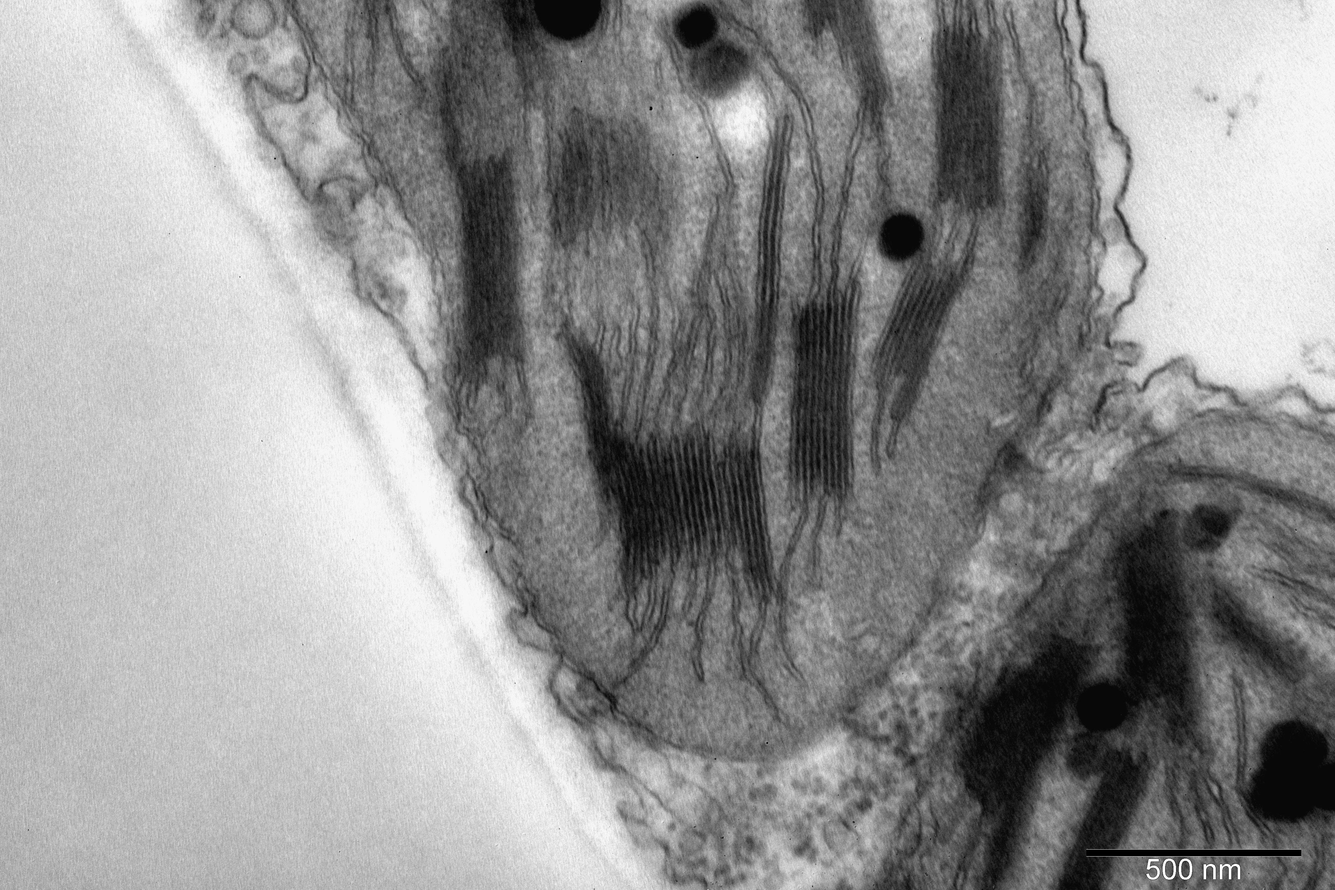granum: (561, 330, 787, 610), (950, 633, 1099, 840), (1106, 507, 1214, 750), (545, 97, 684, 250), (445, 152, 530, 363), (783, 291, 861, 496), (867, 263, 968, 420), (1044, 750, 1153, 890), (927, 23, 1007, 211), (744, 109, 797, 389), (1200, 578, 1309, 682), (797, 0, 895, 107), (1015, 140, 1051, 242)
